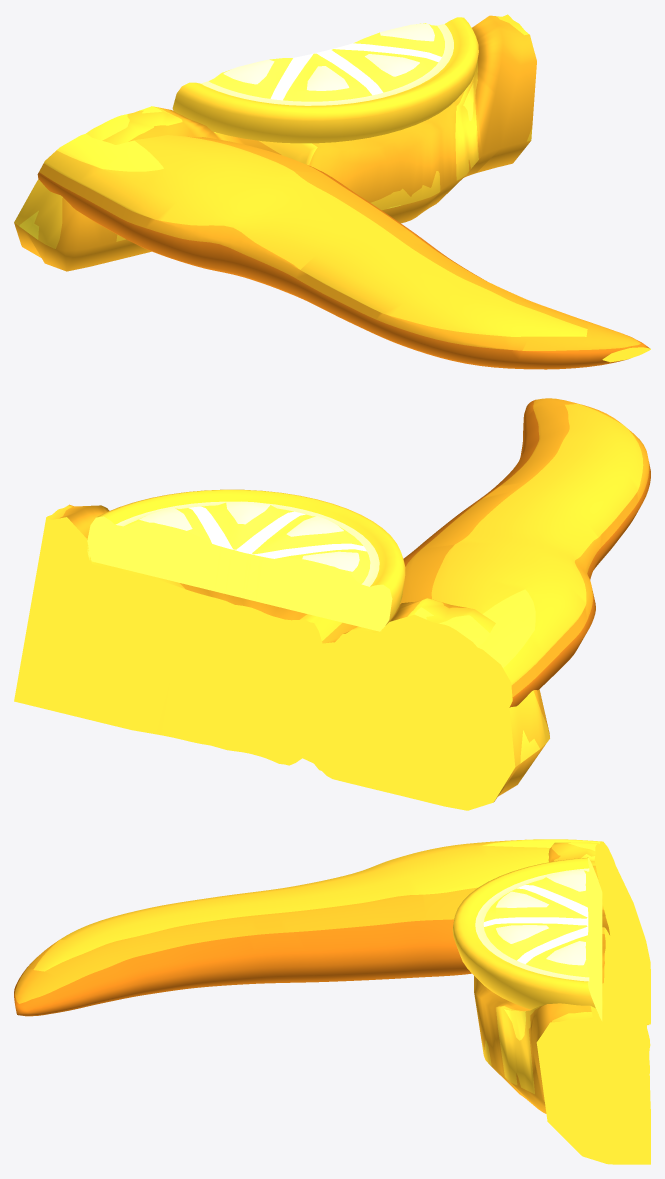
The model's file is lemon_beetle_bl.glb.
3 renders of one model, top to bottom at view 1: azimuth 30°, elevation 25°; view 2: azimuth 150°, elevation 25°; view 3: azimuth 270°, elevation 25°, orthographic. The views are drawn at different scales.
Parts seen in each view (by area): view 1: lemon_beetle_bl; view 2: lemon_beetle_bl; view 3: lemon_beetle_bl.
Boxes of the visible parts, left/top/right/bottom form: lemon_beetle_bl: left=14, top=14, right=650, bottom=369; lemon_beetle_bl: left=14, top=398, right=650, bottom=810; lemon_beetle_bl: left=14, top=839, right=650, bottom=1164.
Size of the model in its own units: 24 by 8.41 by 29.56.
